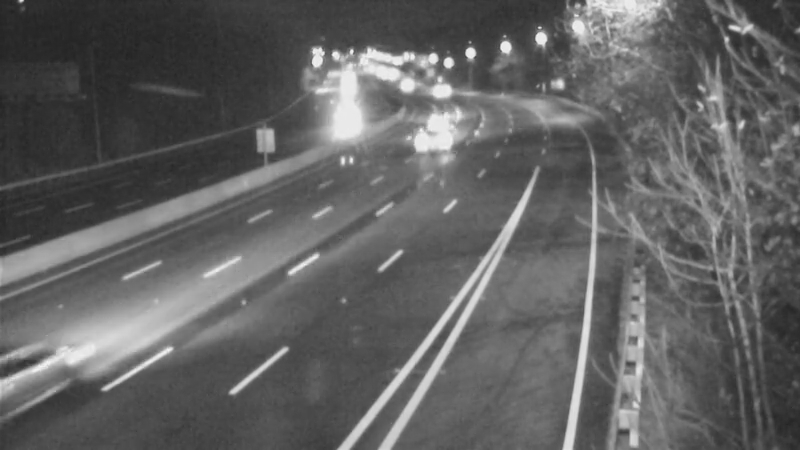vehicle: (1, 322, 98, 432), (383, 61, 433, 111), (417, 66, 467, 116), (415, 93, 465, 143), (412, 109, 462, 159), (320, 101, 370, 151)
